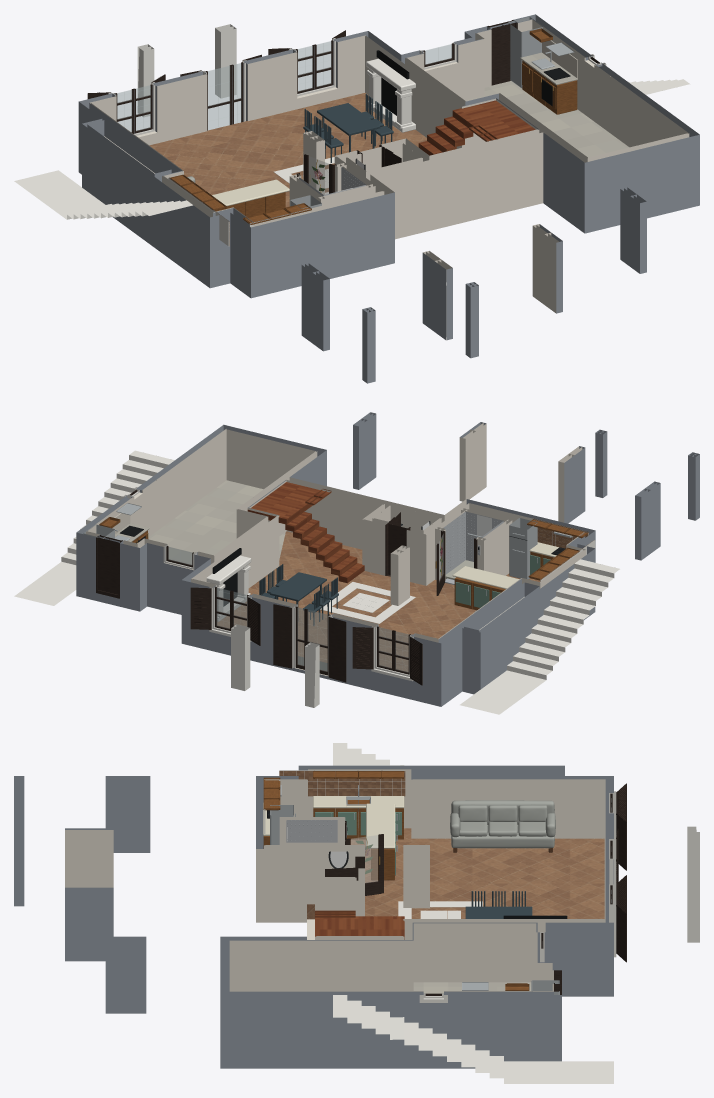
The model's file is floor-0.glb.
3 renders of one model, top to bottom at view 1: azimuth 30°, elevation 25°; view 2: azimuth 150°, elevation 25°; view 3: azimuth 270°, elevation 25°, orthographic. The views are drawn at different scales.
Visible parts, largest first — view 1: fixed | stucco, fixed | interior, fixed | terra_floor, fixed | white_trim, fixed | glass, fixed | wood_dark, fixed | stone_tile, fixed | wood_honey, fixed | wood_floor, furniture | Garden charcoal furniture, fixed | chrome, fixed | black (+1 smaller); view 2: fixed | stucco, fixed | interior, fixed | white_trim, fixed | wood_dark, fixed | terra_floor, fixed | stone_tile, fixed | wood_floor, fixed | glass, fixed | chrome, furniture | Garden charcoal furniture, fixed | wood_honey, fixed | Lift brushed patterned stainless (+3 smaller); view 3: fixed | stucco, fixed | interior, fixed | terra_floor, fixed | white_trim, furniture | Garden grey upholstery, fixed | wood_dark, fixed | wood_honey, fixed | Ivory kitchen countertop, fixed | wood_floor, fixed | chrome, furniture | Garden charcoal furniture, fixed | Lift brushed patterned stainless (+3 smaller).
Part boxes in pixels (x1,y1,x2,y2): fixed | stucco: (78, 14, 699, 383); fixed | interior: (90, 19, 689, 340); fixed | terra_floor: (149, 93, 426, 245); fixed | white_trim: (14, 24, 689, 246); fixed | glass: (117, 41, 451, 132); fixed | wood_dark: (87, 20, 599, 193); fixed | stone_tile: (465, 52, 629, 157); fixed | wood_honey: (169, 28, 577, 224); fixed | wood_floor: (418, 100, 535, 155); furniture | Garden charcoal furniture: (303, 94, 393, 162); fixed | chrome: (290, 17, 574, 208); fixed | black: (376, 50, 570, 115); fixed | stucco: (76, 412, 699, 706); fixed | interior: (86, 423, 585, 675); fixed | white_trim: (14, 450, 619, 714); fixed | wood_dark: (96, 490, 477, 685); fixed | terra_floor: (217, 519, 592, 671); fixed | stone_tile: (115, 480, 327, 670); fixed | wood_floor: (247, 482, 364, 583); fixed | glass: (168, 547, 408, 672); fixed | chrome: (83, 503, 572, 595); furniture | Garden charcoal furniture: (259, 564, 338, 625); fixed | wood_honey: (99, 517, 588, 610); fixed | Lift brushed patterned stainless: (443, 511, 503, 584); fixed | stucco: (14, 765, 613, 1068); fixed | interior: (65, 769, 605, 991); fixed | terra_floor: (279, 771, 604, 919); fixed | white_trim: (264, 743, 699, 1083); furniture | Garden grey upholstery: (450, 800, 555, 848); fixed | wood_dark: (325, 783, 626, 995); fixed | wood_honey: (263, 771, 529, 990); fixed | Ivory kitchen countertop: (263, 796, 404, 848); fixed | wood_floor: (315, 910, 404, 939); fixed | chrome: (270, 785, 559, 994); furniture | Garden charcoal furniture: (465, 891, 532, 918); fixed | Lift brushed patterned stainless: (286, 820, 346, 842).
Size of the model in its own units: 15.98 by 2.1 by 16.87.
27 materials, 27 textured.
